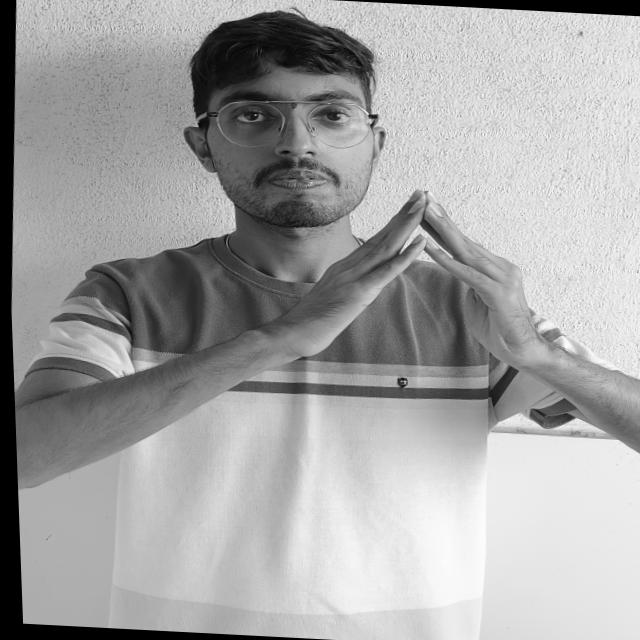Home: (212, 173, 609, 406)
